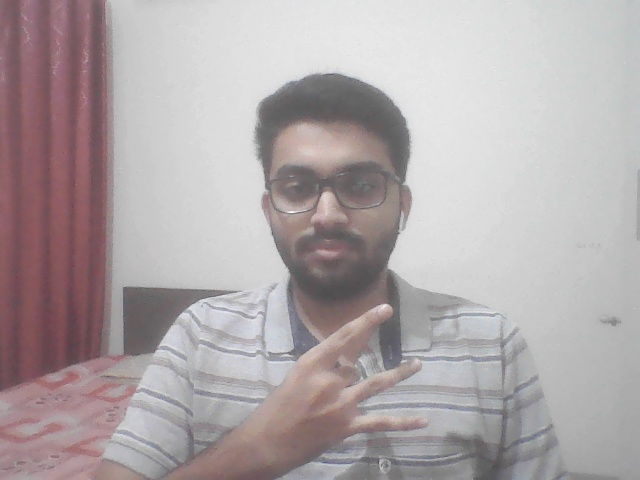like: (229, 302, 461, 465)
